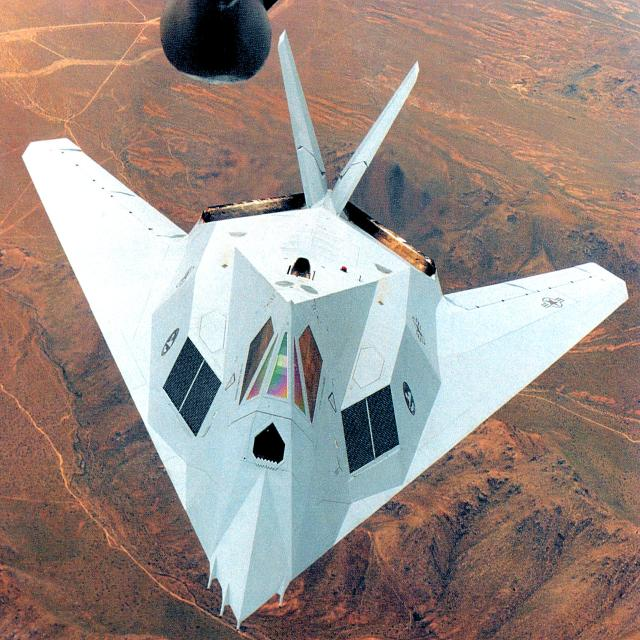MIL_Plane: (21, 29, 630, 631)
